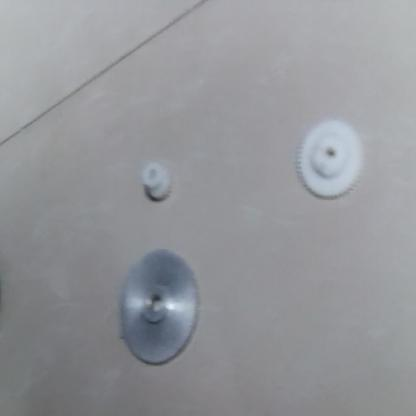FOD: (114, 247, 203, 370), (295, 117, 367, 203), (140, 157, 170, 204)
